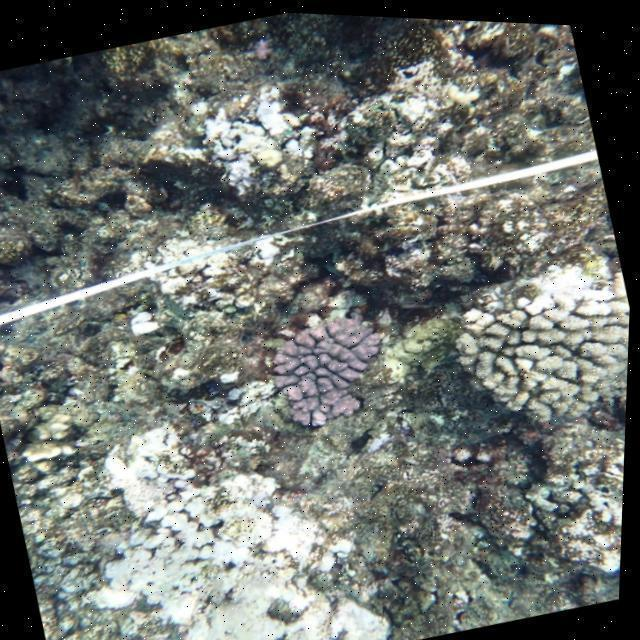Bleached Coral: (52, 451, 377, 640), (191, 72, 308, 217), (508, 232, 614, 336)
